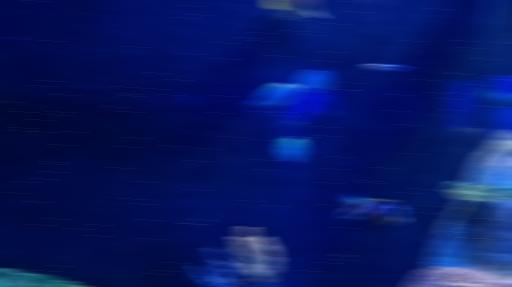Fish: (340, 195, 405, 225), (248, 83, 299, 114), (265, 0, 324, 19), (296, 70, 331, 92), (276, 137, 305, 162), (363, 64, 410, 71)
